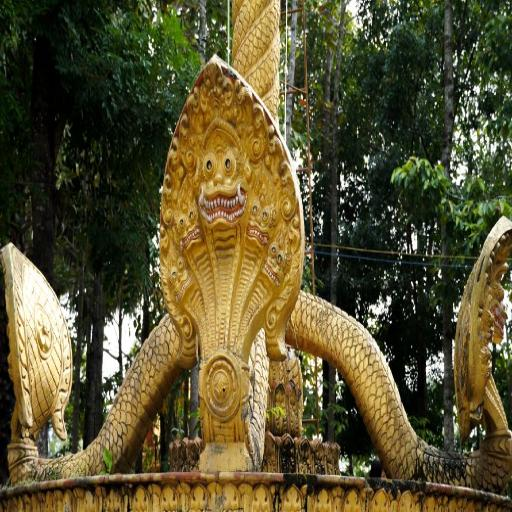ran: (158, 52, 300, 452), (1, 239, 73, 447), (451, 206, 512, 436)
